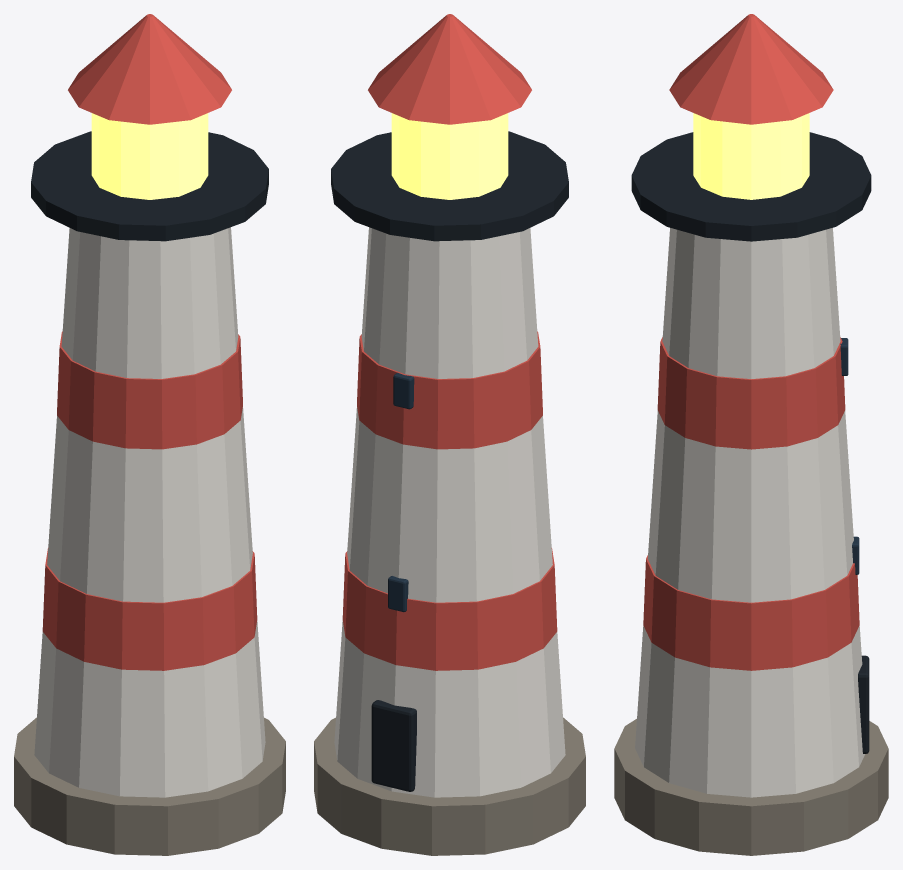
File: lighthouse.glb
3 views of the same model, side by side, from view 1: azimuth 30°, elevation 25°; view 2: azimuth 150°, elevation 25°; view 3: azimuth 270°, elevation 25° (orthographic).
Parts seen in each view (by area): view 1: Cone, Cylinder, Cone.001, Cylinder.001, Cone.002, Cone.003, Cylinder.002; view 2: Cone, Cylinder, Cylinder.001, Cone.001, Cone.002, Cone.003, Cylinder.002, Cube, Cube.002, Cube.001; view 3: Cone, Cylinder, Cone.001, Cylinder.001, Cone.002, Cone.003, Cylinder.002, Cube.
Boxes of the visible parts, box(x1,y1,x2,y2) form: Cone: box(34, 227, 265, 797); Cylinder: box(14, 717, 285, 855); Cone.001: box(42, 548, 257, 670); Cylinder.001: box(31, 131, 268, 241); Cone.002: box(57, 331, 242, 449); Cone.003: box(68, 14, 231, 124); Cylinder.002: box(91, 113, 208, 199); Cone: box(334, 227, 565, 797); Cylinder: box(314, 717, 585, 855); Cylinder.001: box(331, 131, 568, 241); Cone.001: box(342, 548, 557, 670); Cone.002: box(357, 331, 542, 449); Cone.003: box(368, 14, 531, 124); Cylinder.002: box(391, 113, 508, 199); Cube: box(371, 700, 416, 791); Cube.002: box(393, 373, 414, 409); Cube.001: box(388, 576, 408, 612); Cone: box(635, 228, 864, 797); Cylinder: box(614, 719, 888, 855); Cone.001: box(643, 555, 859, 670); Cylinder.001: box(631, 132, 871, 241); Cone.002: box(657, 337, 845, 449); Cone.003: box(669, 14, 833, 124); Cylinder.002: box(693, 113, 809, 199); Cube: box(858, 655, 869, 753).
Size of the model in its own units: 4 by 12.6 by 4.
